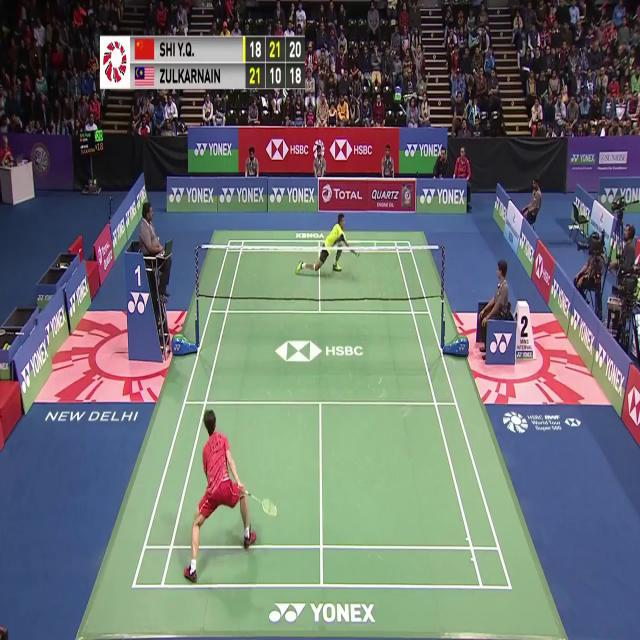Shuttlecock: (372, 239, 378, 250)
